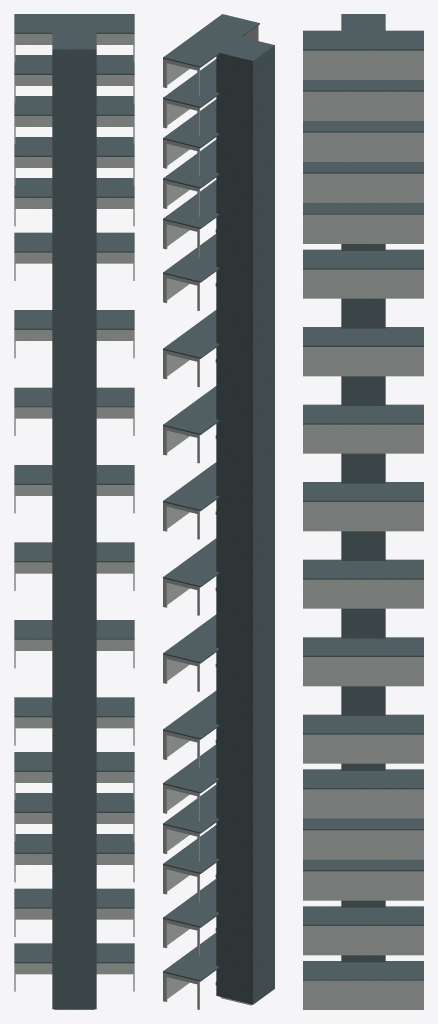
File: AST-STF-G3-006.glb
3 views of the same model, side by side, from view 1: azimuth 90°, elevation 25°; view 2: azimuth 150°, elevation 25°; view 3: azimuth 270°, elevation 25° (orthographic).
Visible parts, largest first — view 1: shaft_architecture_staff_bluegrey_paint_y0, shaft_architecture_staff_bluegrey_paint_y1, shaft_architecture_staff_bluegrey_paint_y2, shaft_architecture_staff_bluegrey_paint_y3, shaft_architecture_staff_bluegrey_paint_y4, shaft_architecture_staff_bluegrey_paint_y5, shaft_architecture_staff_bluegrey_paint_y10, shaft_architecture_staff_bluegrey_paint_y11, shaft_architecture_staff_bluegrey_paint_y12, shaft_architecture_staff_bluegrey_paint_y6, shaft_architecture_staff_bluegrey_paint_y7, shaft_architecture_staff_bluegrey_paint_y8 (+28 smaller); view 2: shaft_architecture_staff_bluegrey_paint_y7, shaft_architecture_staff_bluegrey_paint_y8, shaft_architecture_staff_bluegrey_paint_y0, shaft_architecture_staff_bluegrey_paint_y9, shaft_architecture_staff_bluegrey_paint_y2, shaft_architecture_staff_bluegrey_paint_y6, shaft_architecture_staff_bluegrey_paint_y11, shaft_architecture_staff_bluegrey_paint_y3, shaft_architecture_staff_bluegrey_paint_y12, shaft_architecture_staff_bluegrey_paint_y4, shaft_architecture_staff_bluegrey_paint_y10, shaft_architecture_staff_bluegrey_paint_y5 (+28 smaller); view 3: lobby_wall_staff_white_paint_y0, lobby_wall_staff_white_paint_y2, lobby_wall_staff_white_paint_y11, lobby_wall_staff_white_paint_y12, overhead_staff_bluegrey_paint_y3, overhead_staff_bluegrey_paint_y1, overhead_staff_bluegrey_paint_y10, lobby_wall_staff_white_paint_y1, lobby_wall_staff_white_paint_y3, lobby_wall_staff_white_paint_y4, lobby_wall_staff_white_paint_y5, lobby_wall_staff_white_paint_y6 (+23 smaller).
Boxes of the visible parts, x1,y1,x2,y2 form: shaft_architecture_staff_bluegrey_paint_y0: (52, 936, 96, 1009); shaft_architecture_staff_bluegrey_paint_y1: (52, 863, 96, 936); shaft_architecture_staff_bluegrey_paint_y2: (52, 790, 96, 863); shaft_architecture_staff_bluegrey_paint_y3: (52, 717, 96, 790); shaft_architecture_staff_bluegrey_paint_y4: (52, 644, 96, 717); shaft_architecture_staff_bluegrey_paint_y5: (52, 571, 96, 644); shaft_architecture_staff_bluegrey_paint_y10: (52, 207, 96, 280); shaft_architecture_staff_bluegrey_paint_y11: (52, 134, 96, 207); shaft_architecture_staff_bluegrey_paint_y12: (52, 61, 96, 134); shaft_architecture_staff_bluegrey_paint_y6: (52, 499, 96, 571); shaft_architecture_staff_bluegrey_paint_y7: (52, 426, 96, 498); shaft_architecture_staff_bluegrey_paint_y8: (52, 353, 96, 425); shaft_architecture_staff_bluegrey_paint_y7: (216, 373, 274, 502); shaft_architecture_staff_bluegrey_paint_y8: (216, 297, 274, 431); shaft_architecture_staff_bluegrey_paint_y0: (216, 888, 274, 1004); shaft_architecture_staff_bluegrey_paint_y9: (216, 243, 274, 359); shaft_architecture_staff_bluegrey_paint_y2: (216, 754, 274, 861); shaft_architecture_staff_bluegrey_paint_y6: (216, 449, 274, 574); shaft_architecture_staff_bluegrey_paint_y11: (216, 122, 274, 216); shaft_architecture_staff_bluegrey_paint_y3: (216, 678, 274, 789); shaft_architecture_staff_bluegrey_paint_y12: (216, 55, 274, 144); shaft_architecture_staff_bluegrey_paint_y4: (216, 601, 274, 717); shaft_architecture_staff_bluegrey_paint_y10: (216, 200, 274, 287); shaft_architecture_staff_bluegrey_paint_y5: (216, 559, 274, 646); lobby_wall_staff_white_paint_y0: (303, 926, 423, 1009); lobby_wall_staff_white_paint_y2: (303, 789, 423, 859); lobby_wall_staff_white_paint_y11: (303, 132, 423, 202); lobby_wall_staff_white_paint_y12: (303, 50, 423, 120); overhead_staff_bluegrey_paint_y3: (303, 714, 423, 789); overhead_staff_bluegrey_paint_y1: (303, 859, 423, 925); overhead_staff_bluegrey_paint_y10: (303, 203, 423, 269); lobby_wall_staff_white_paint_y1: (303, 871, 423, 900); lobby_wall_staff_white_paint_y3: (303, 734, 423, 763); lobby_wall_staff_white_paint_y4: (303, 657, 423, 686); lobby_wall_staff_white_paint_y5: (303, 579, 423, 608); lobby_wall_staff_white_paint_y6: (303, 502, 423, 531).
Bounding box in the file's own units: 8.32 × 106 × 12.
Materials: 4 (4 with a texture image).
